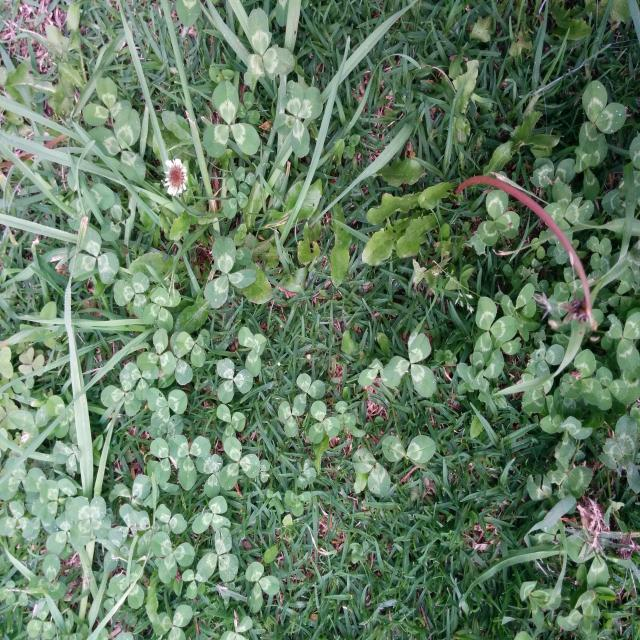Four Leaf Clover: (273, 80, 323, 158), (68, 496, 111, 547), (143, 286, 181, 333)
